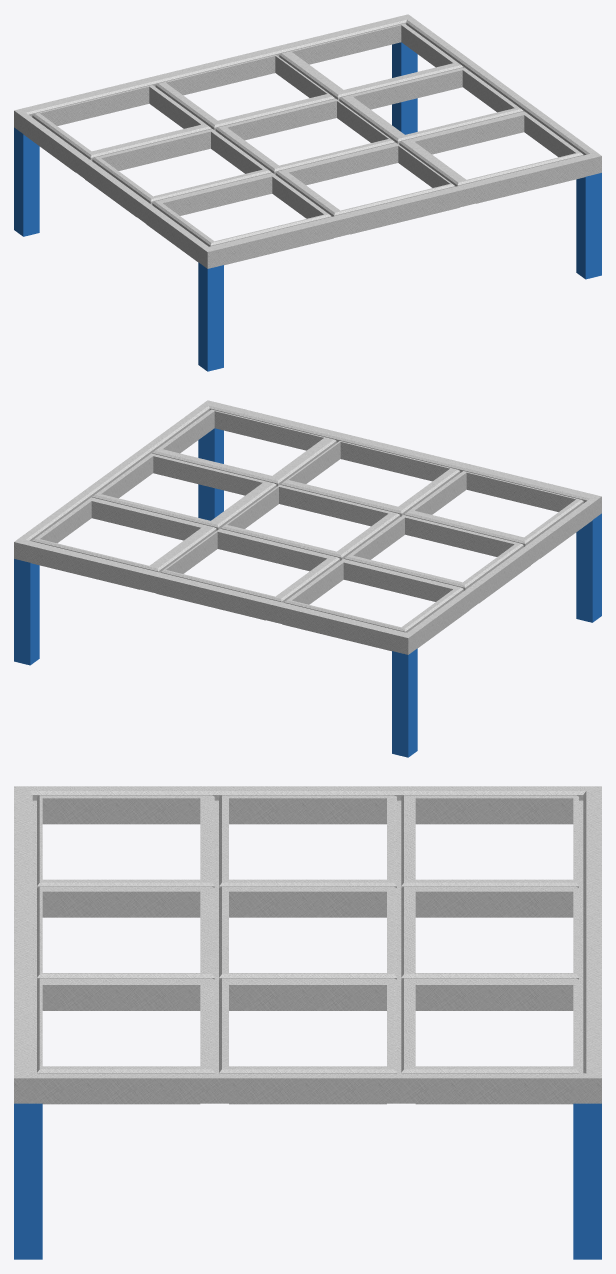
The model's file is Assembly 2.obj.
3 renders of one model, top to bottom at view 1: azimuth 30°, elevation 25°; view 2: azimuth 150°, elevation 25°; view 3: azimuth 270°, elevation 25°, orthographic. The views are drawn at different scales.
Parts seen in each view (by area): view 1: Solid1, Solid1:3, Solid1:2, Solid1:4, Solid1:1; view 2: Solid1, Solid1:4, Solid1:1, Solid1:3, Solid1:2; view 3: Solid1, Solid1:1, Solid1:2.
Part boxes in pixels (box(x1,y1,x2,y2)): Solid1: box(14, 14, 601, 268); Solid1:3: box(198, 262, 223, 371); Solid1:2: box(576, 173, 601, 279); Solid1:4: box(14, 127, 39, 236); Solid1:1: box(392, 42, 417, 134); Solid1: box(14, 400, 601, 654); Solid1:4: box(392, 648, 417, 757); Solid1:1: box(14, 559, 39, 665); Solid1:3: box(576, 513, 601, 622); Solid1:2: box(198, 428, 223, 520); Solid1: box(14, 786, 601, 1104); Solid1:1: box(573, 1103, 601, 1259); Solid1:2: box(14, 1103, 42, 1259).
Size of the model in its own units: 121 by 34.9 by 102.
Materials: 2 (1 with a texture image).
